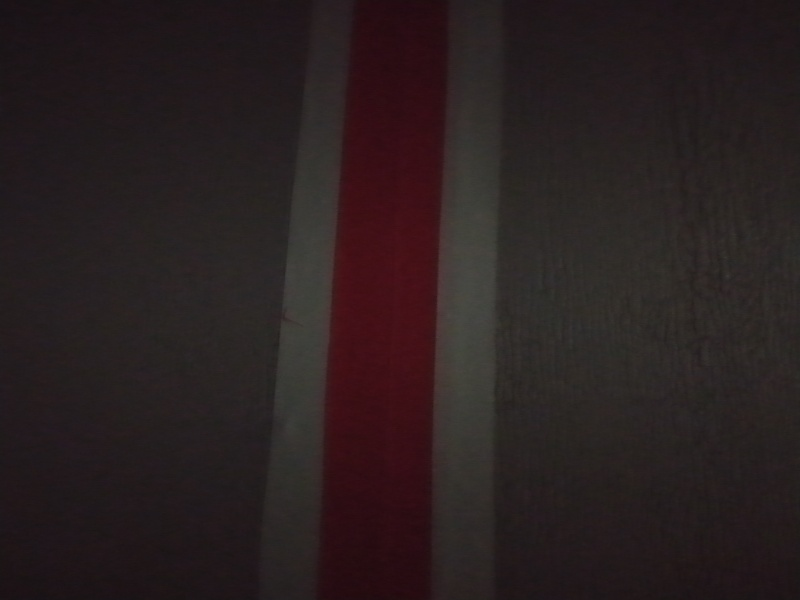reta: (255, 15, 500, 600)
